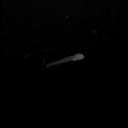fish: (44, 52, 84, 68)
